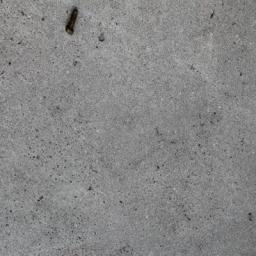FOD: (64, 4, 82, 39)
